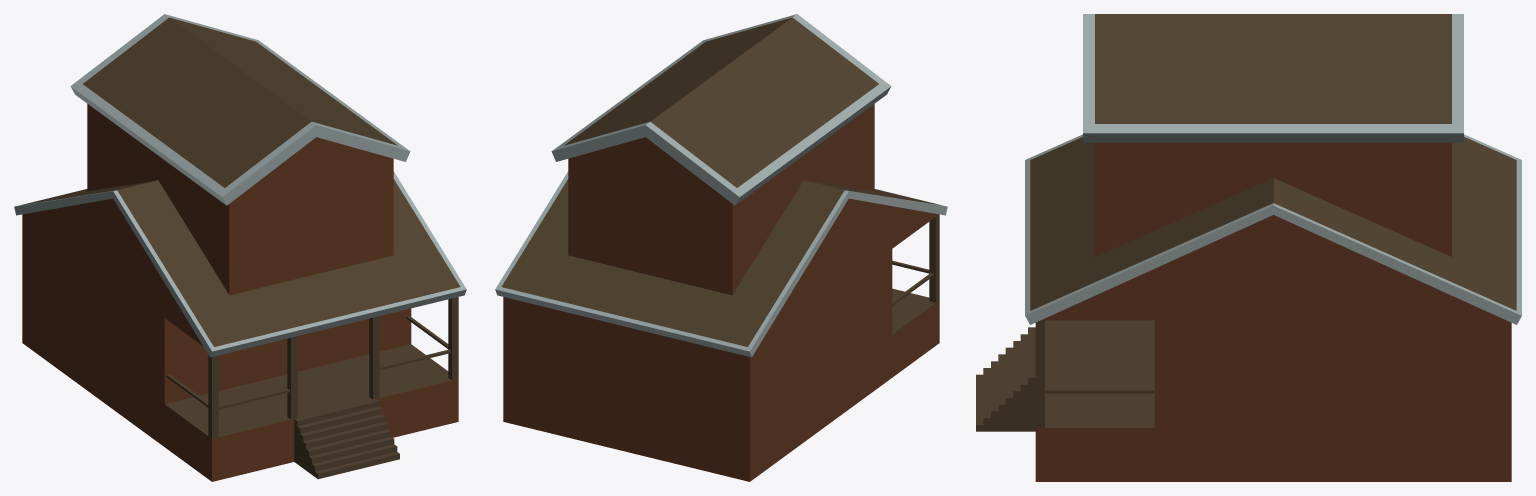
Rendered from PS_House02.fbx.
3 views of the same model, side by side, from view 1: azimuth 30°, elevation 25°; view 2: azimuth 150°, elevation 25°; view 3: azimuth 270°, elevation 25° (orthographic). The views are drawn at different scales.
Visible parts, largest first — view 1: PS_House02; view 2: PS_House02; view 3: PS_House02.
Part boxes in pixels (x1,y1,x2,y2): PS_House02: (14,14,466,481); PS_House02: (495,14,947,481); PS_House02: (976,14,1521,481).
Bounding box in the file's own units: 6.2 × 7.28 × 9.18.
